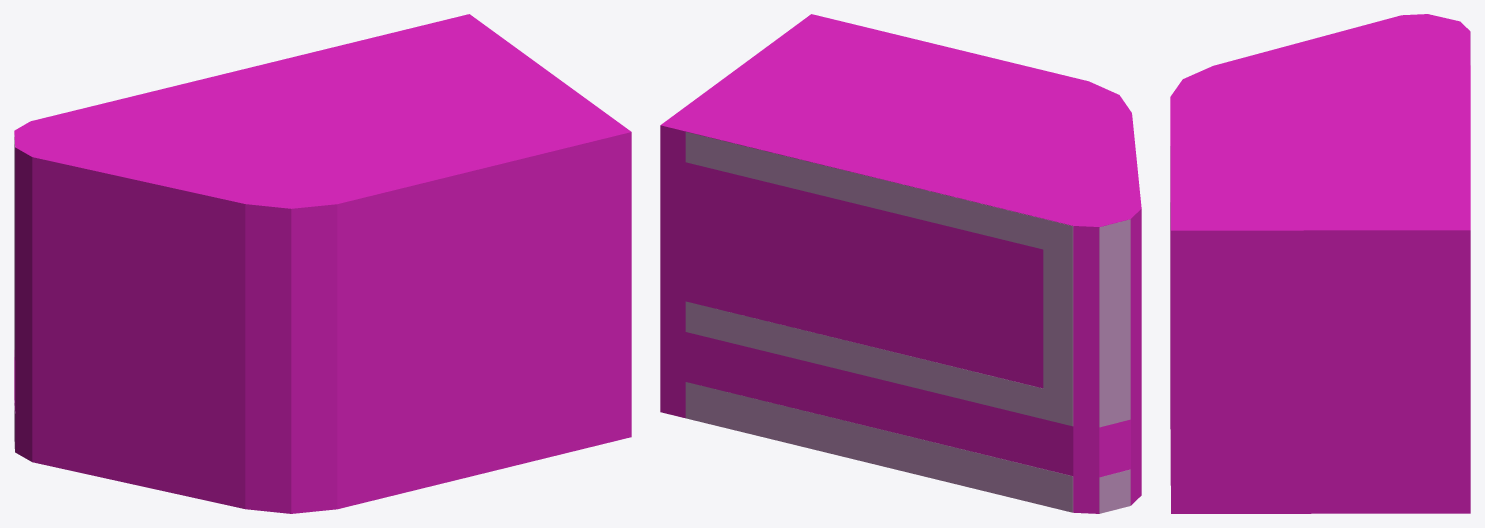
File: building1.fbx
3 renders of one model, left to right at view 1: azimuth 30°, elevation 25°; view 2: azimuth 150°, elevation 25°; view 3: azimuth 270°, elevation 25°, orthographic. The views are drawn at different scales.
Visible parts, largest first — view 1: building1_COL; view 2: building1_COL, building1_MESH; view 3: building1_COL.
Part boxes in pixels (x1,y1,x2,y2): building1_COL: [14, 14, 631, 513]; building1_COL: [660, 14, 1141, 513]; building1_MESH: [685, 132, 1130, 513]; building1_COL: [1170, 14, 1470, 513].
Size of the model in its own units: 1276 by 748 by 778.
